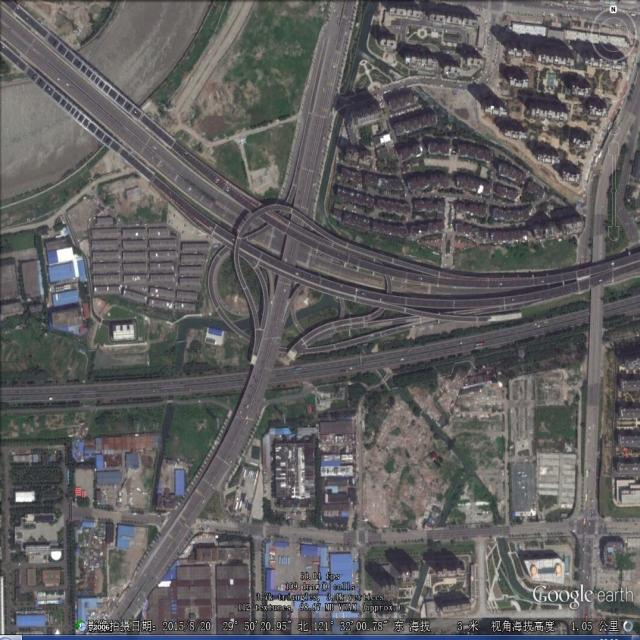overpass: (142, 135, 489, 382)
